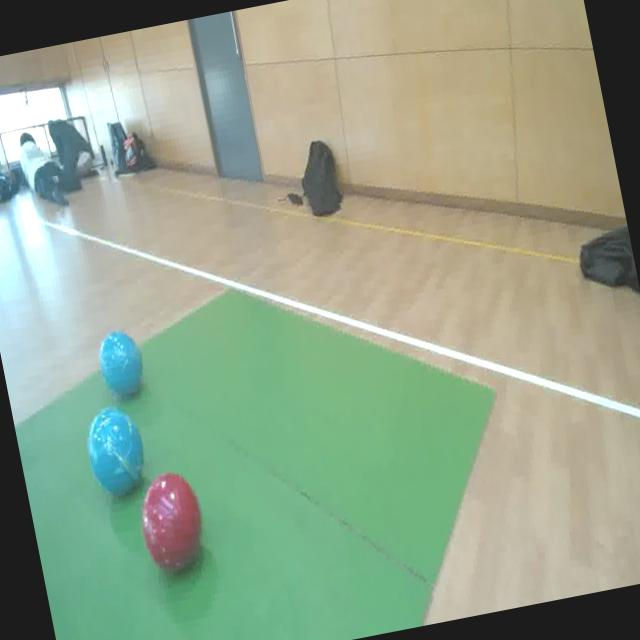blue_ball: (82, 400, 152, 500), (94, 324, 150, 404)
red_ball: (132, 463, 215, 583)
